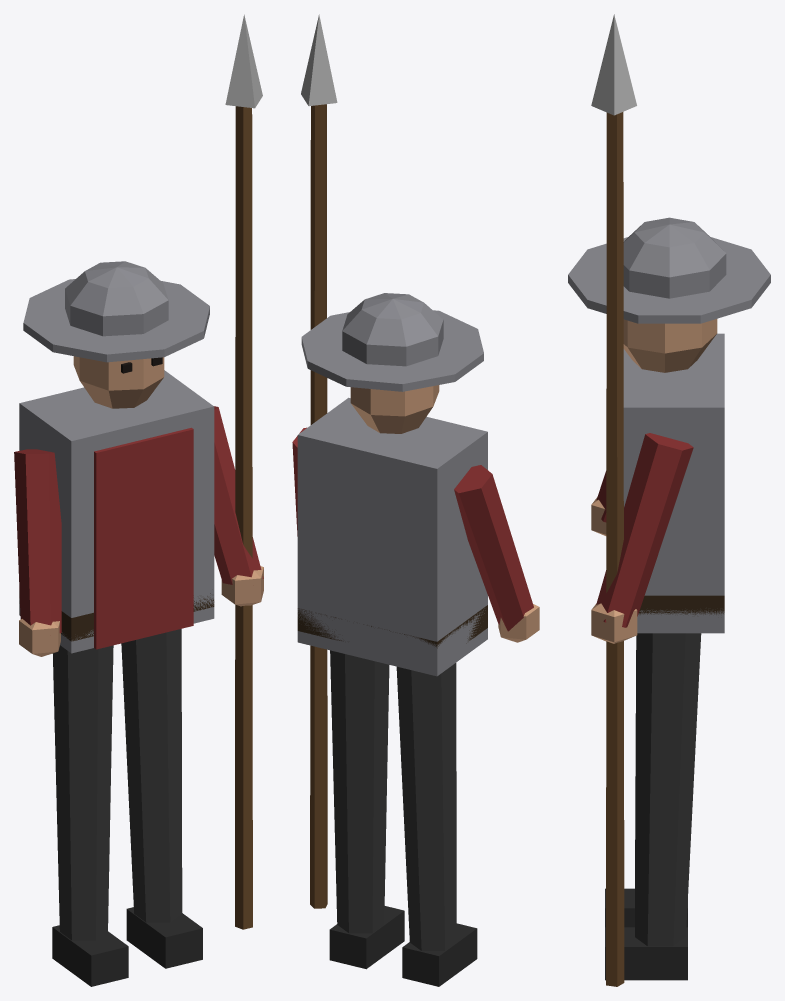
File: stadtwache.glb
3 views of the same model, side by side, from view 1: azimuth 30°, elevation 25°; view 2: azimuth 150°, elevation 25°; view 3: azimuth 270°, elevation 25° (orthographic). The views are drawn at different scales.
Bounding box in the file's own units: 0.6348 × 2.37 × 0.44.
Materials: 1 (1 with a texture image).
